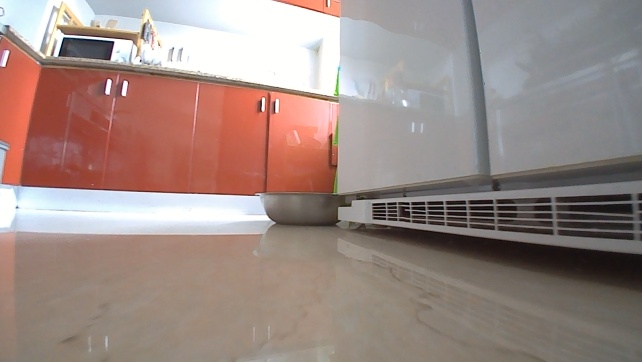cupboard: (0, 22, 340, 215)
